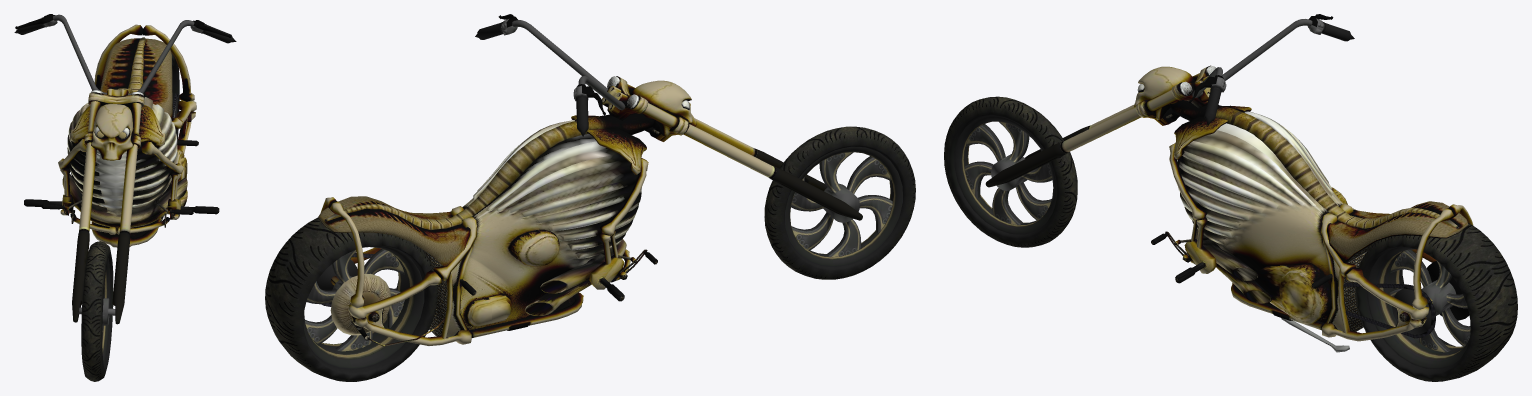
File: bike-rider.glb
3 renders of one model, left to right at view 1: azimuth 30°, elevation 25°; view 2: azimuth 150°, elevation 25°; view 3: azimuth 270°, elevation 25°, orthographic. The views are drawn at different scales.
Parts seen in each view (by area): view 1: Object_2, Object_3; view 2: Object_2, Object_3; view 3: Object_2, Object_3.
Part boxes in pixels (x1=…): Object_2: x1=24, y1=14, x2=219, y2=381; Object_3: x1=14, y1=14, x2=236, y2=333; Object_2: x1=265, y1=20, x2=915, y2=381; Object_3: x1=305, y1=14, x2=892, y2=351; Object_2: x1=944, y1=19, x2=1517, y2=381; Object_3: x1=964, y1=14, x2=1470, y2=352.
Size of the model in its own units: 1.81 by 1.3 by 2.44.
Materials: 1 (1 with a texture image).
